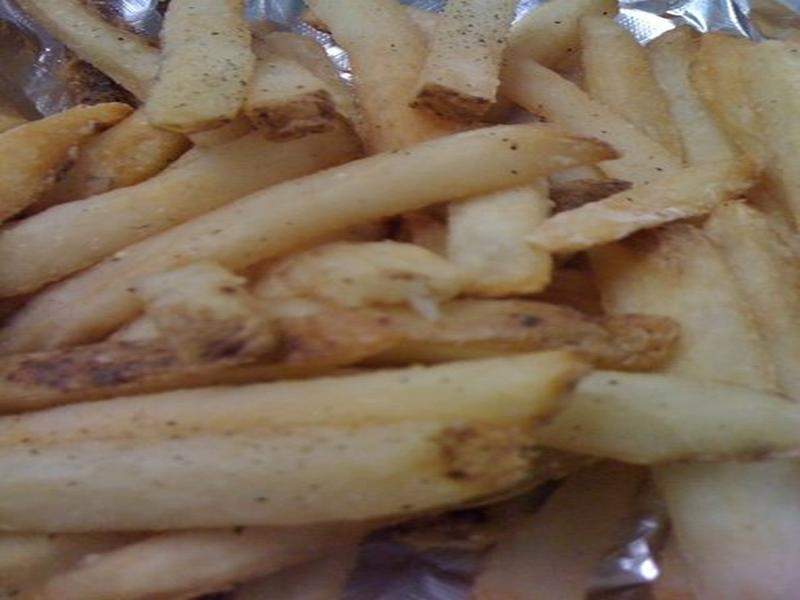french_fries: (11, 21, 779, 600)
